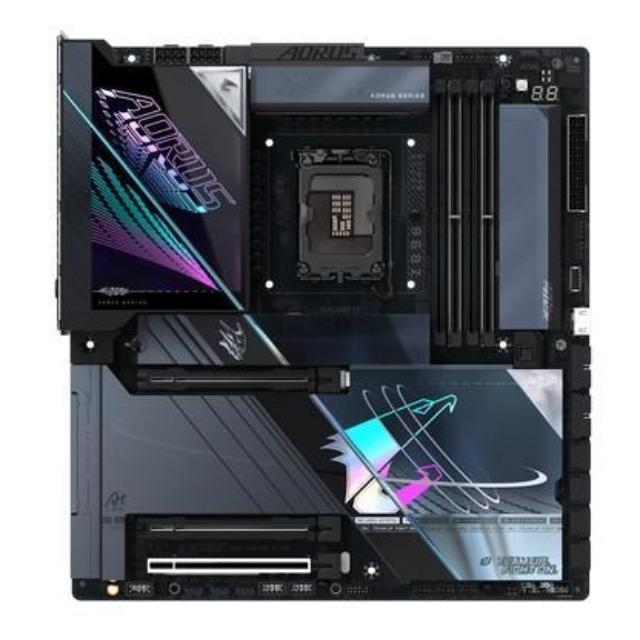Mainboard: (49, 30, 597, 615)
